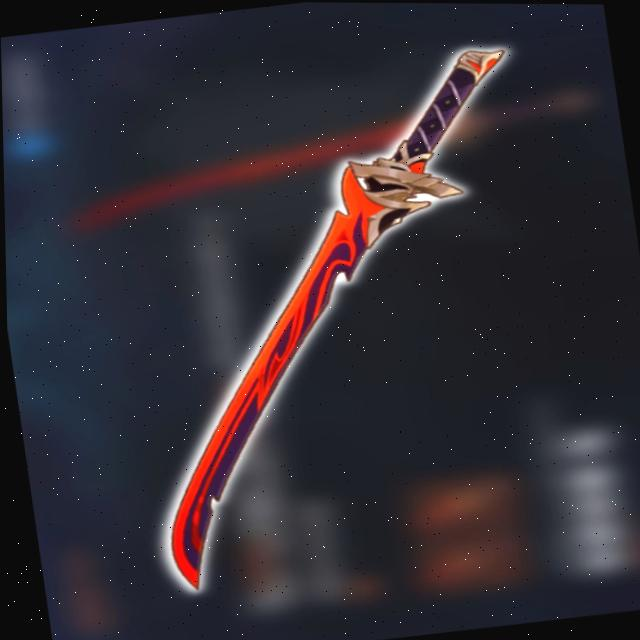knife: (101, 42, 577, 592)
